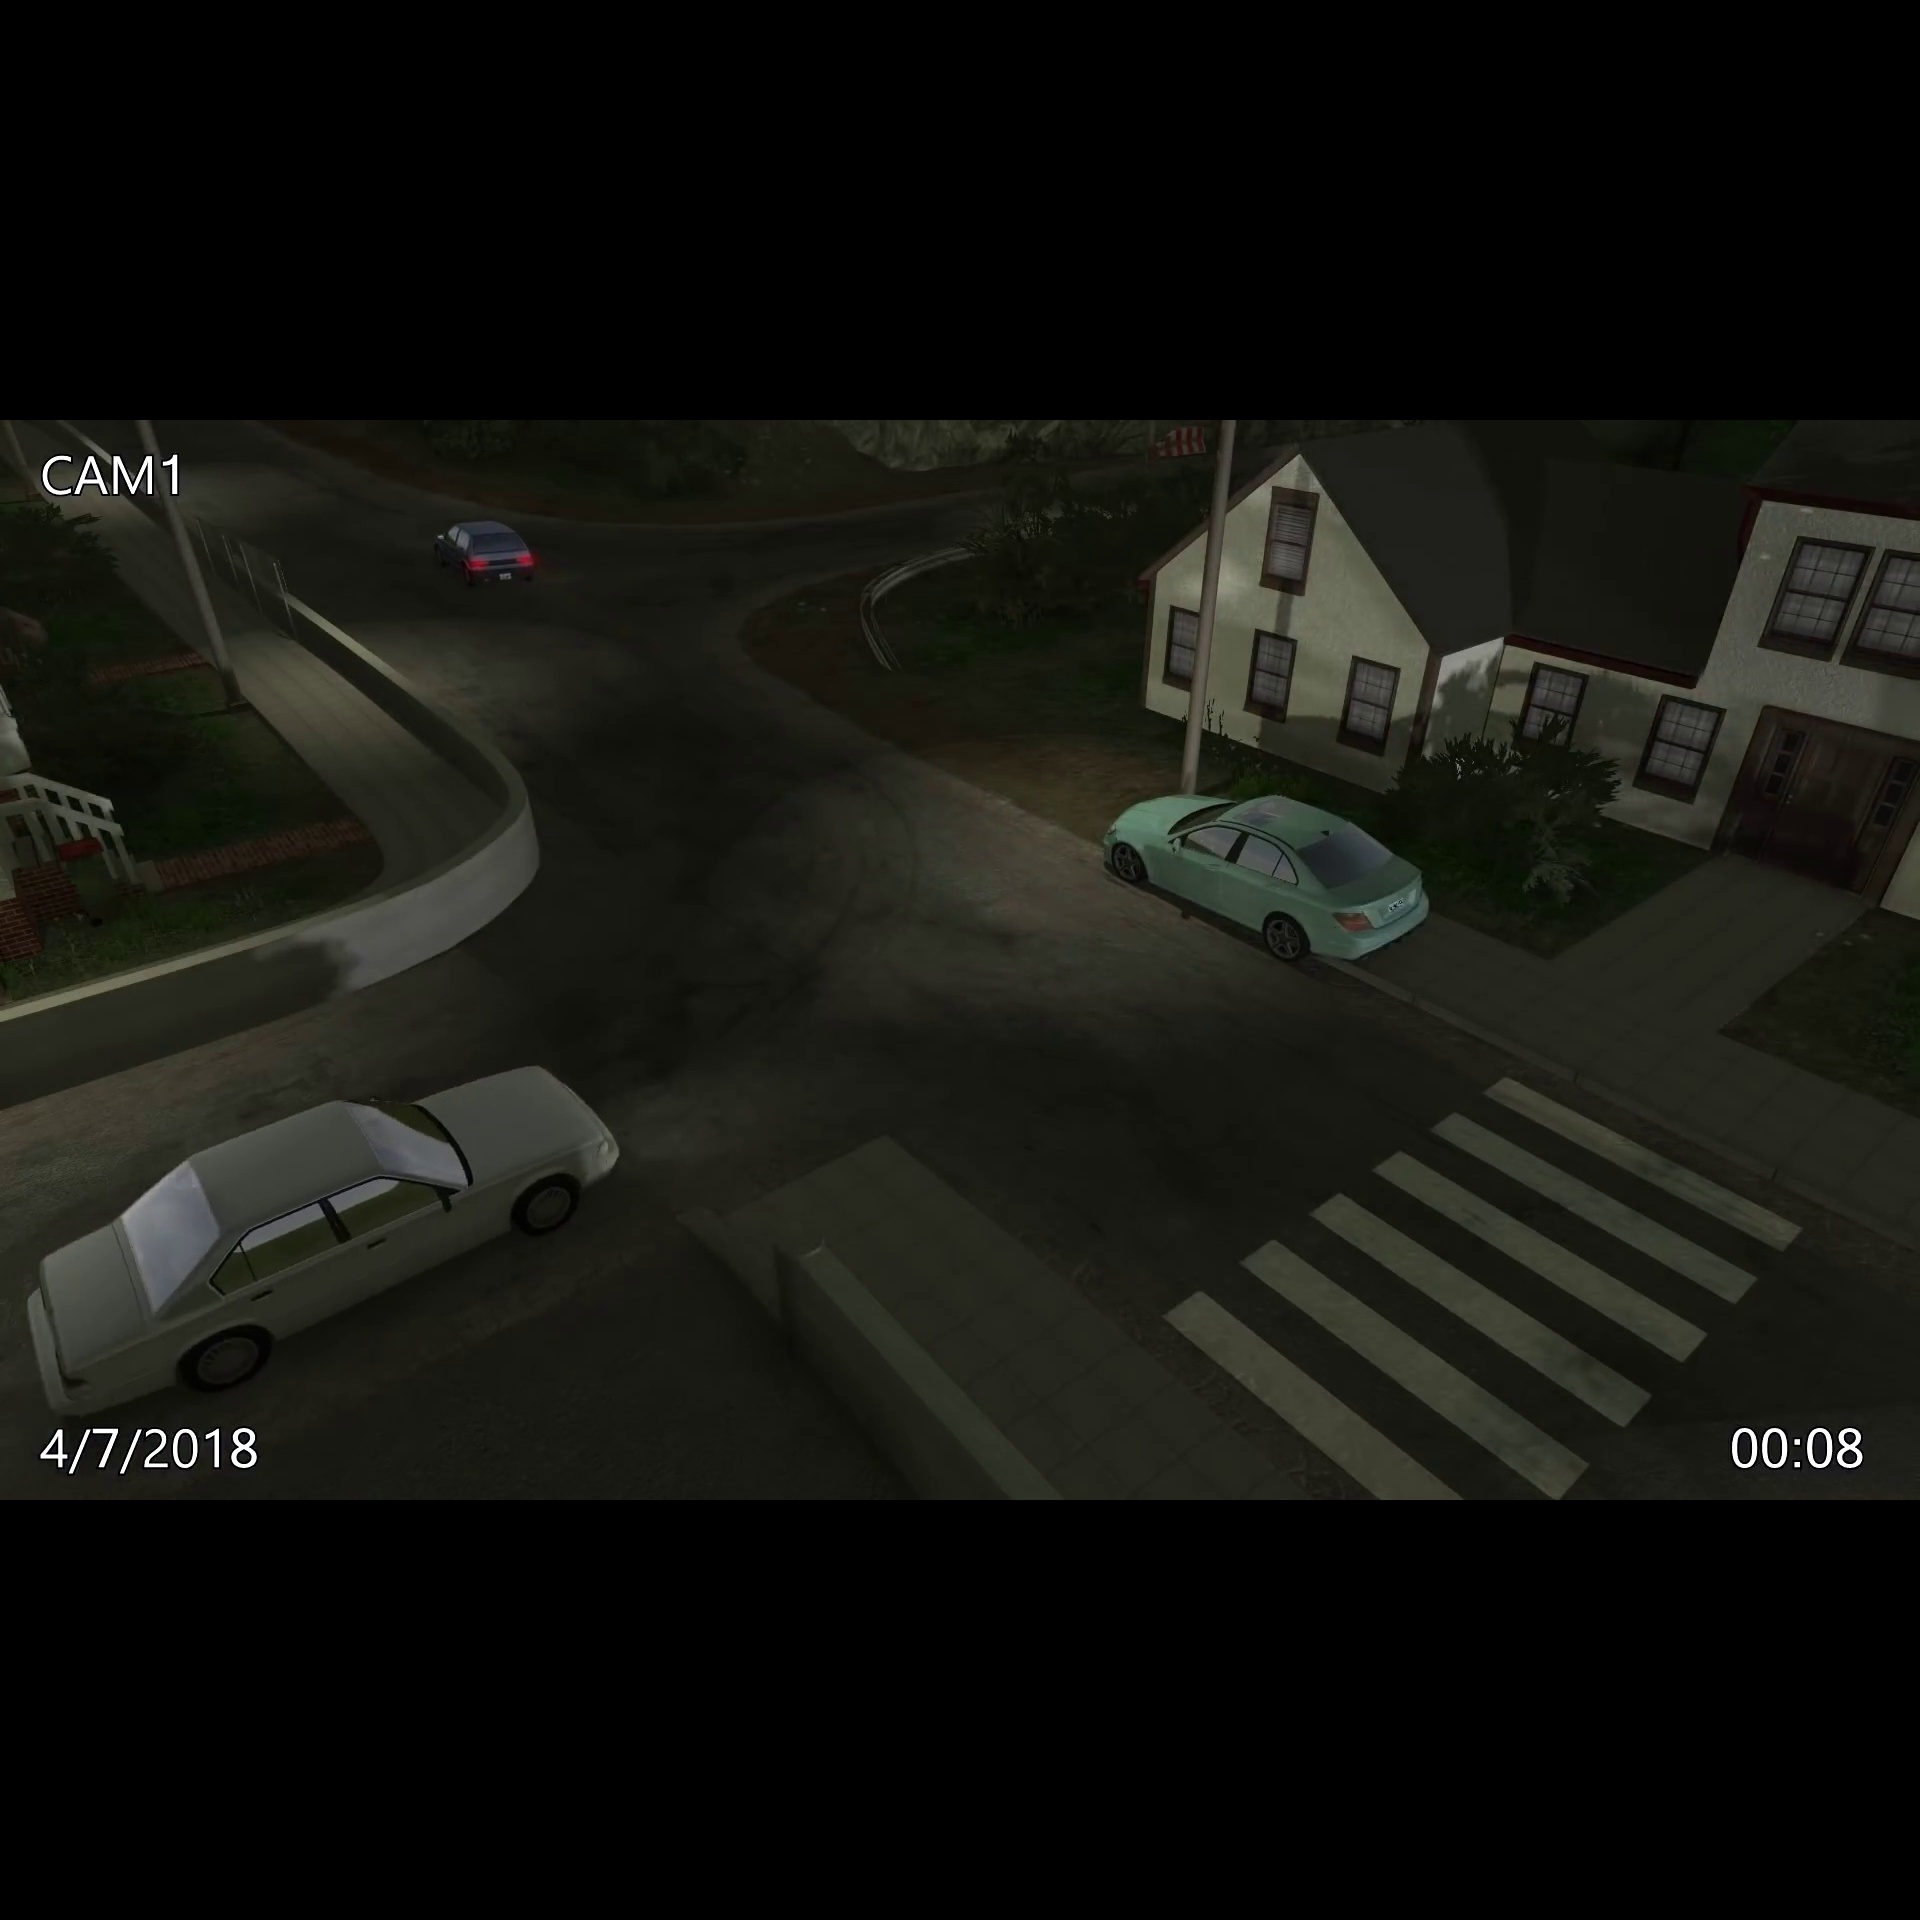vehicle: (23, 1057, 638, 1442), (1092, 782, 1435, 965), (427, 513, 540, 594)
